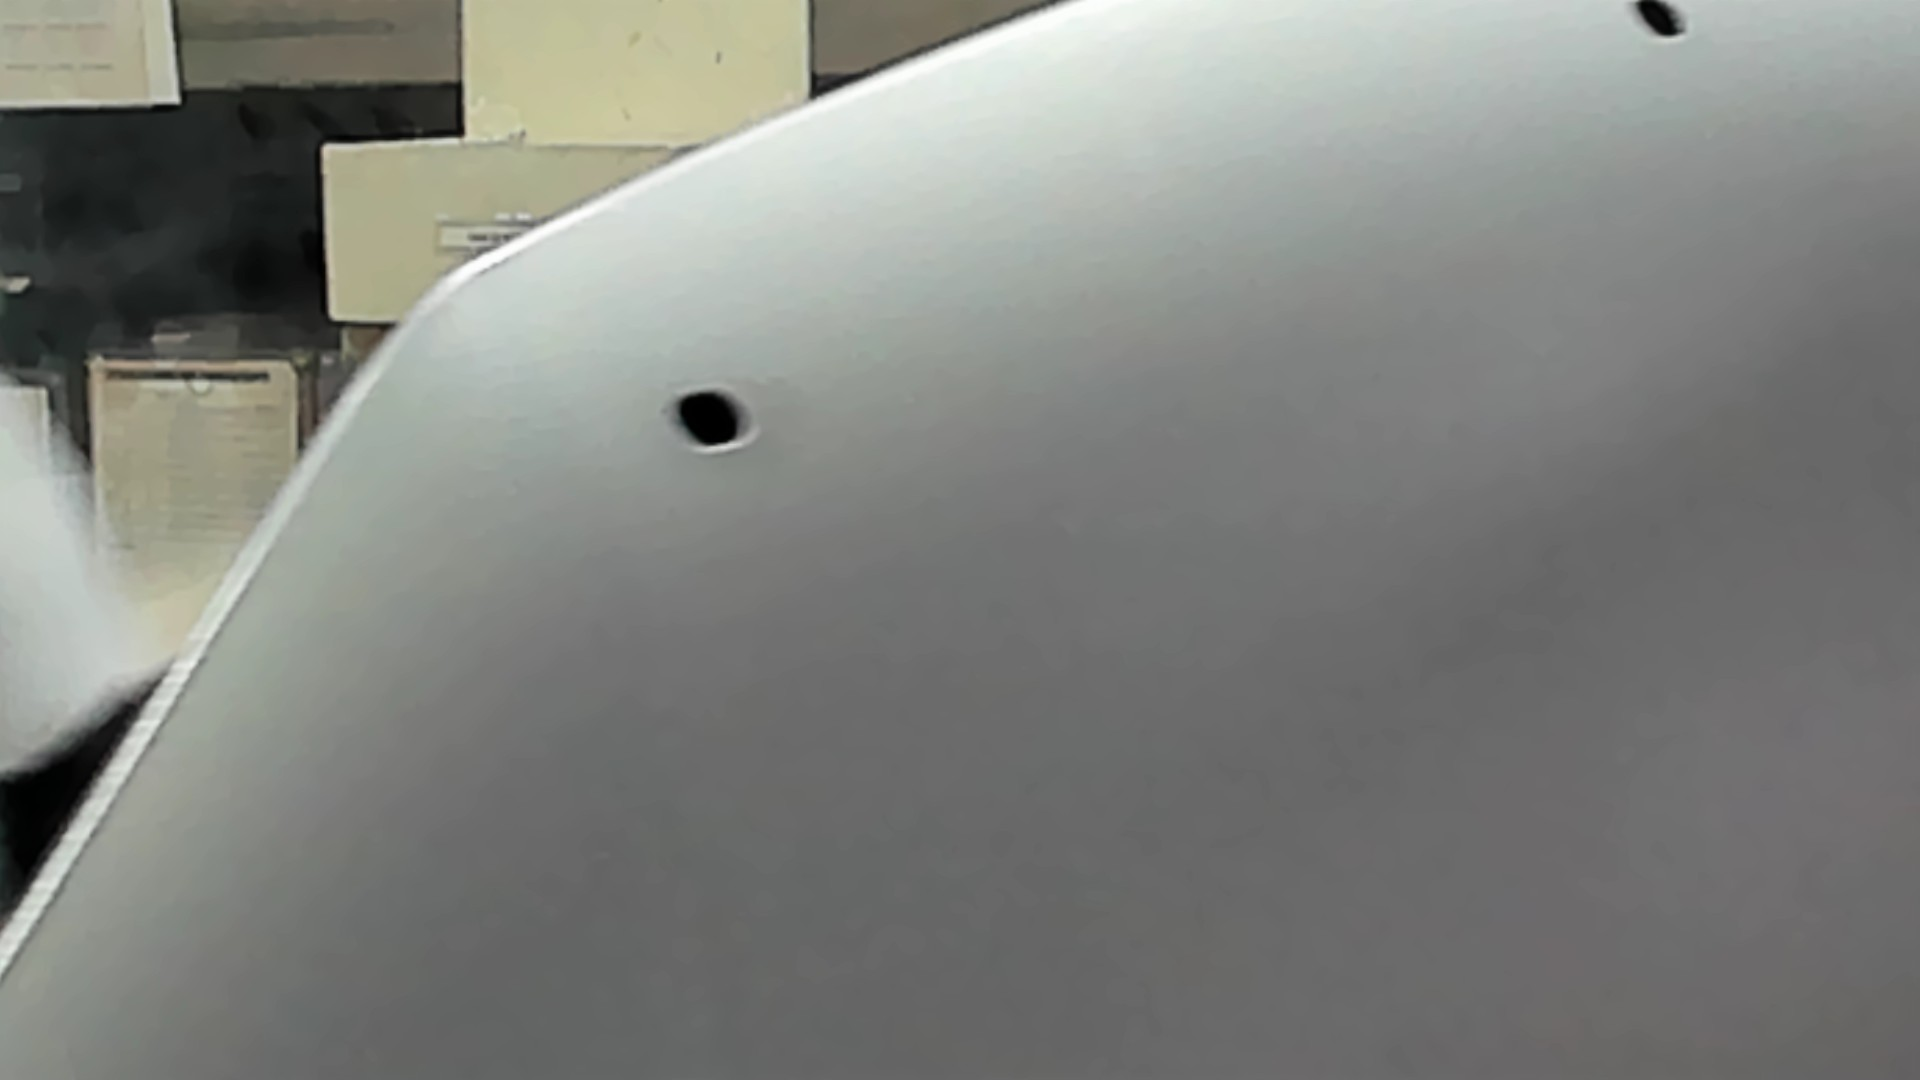chico: (651, 375, 778, 464), (1614, 1, 1709, 65)
